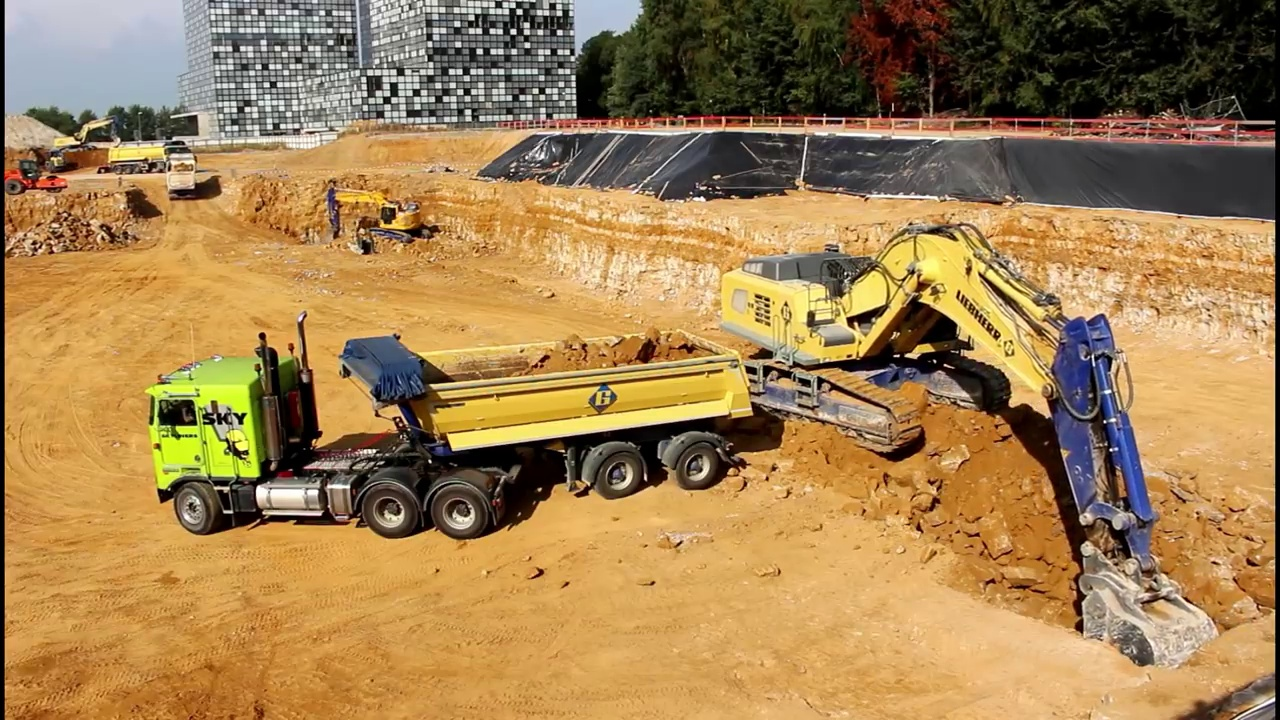compactor: (4, 157, 73, 198)
excavator: (690, 216, 1228, 679), (323, 179, 440, 250), (49, 114, 122, 157)
truck: (136, 306, 760, 544), (106, 134, 197, 174), (167, 143, 198, 200)
